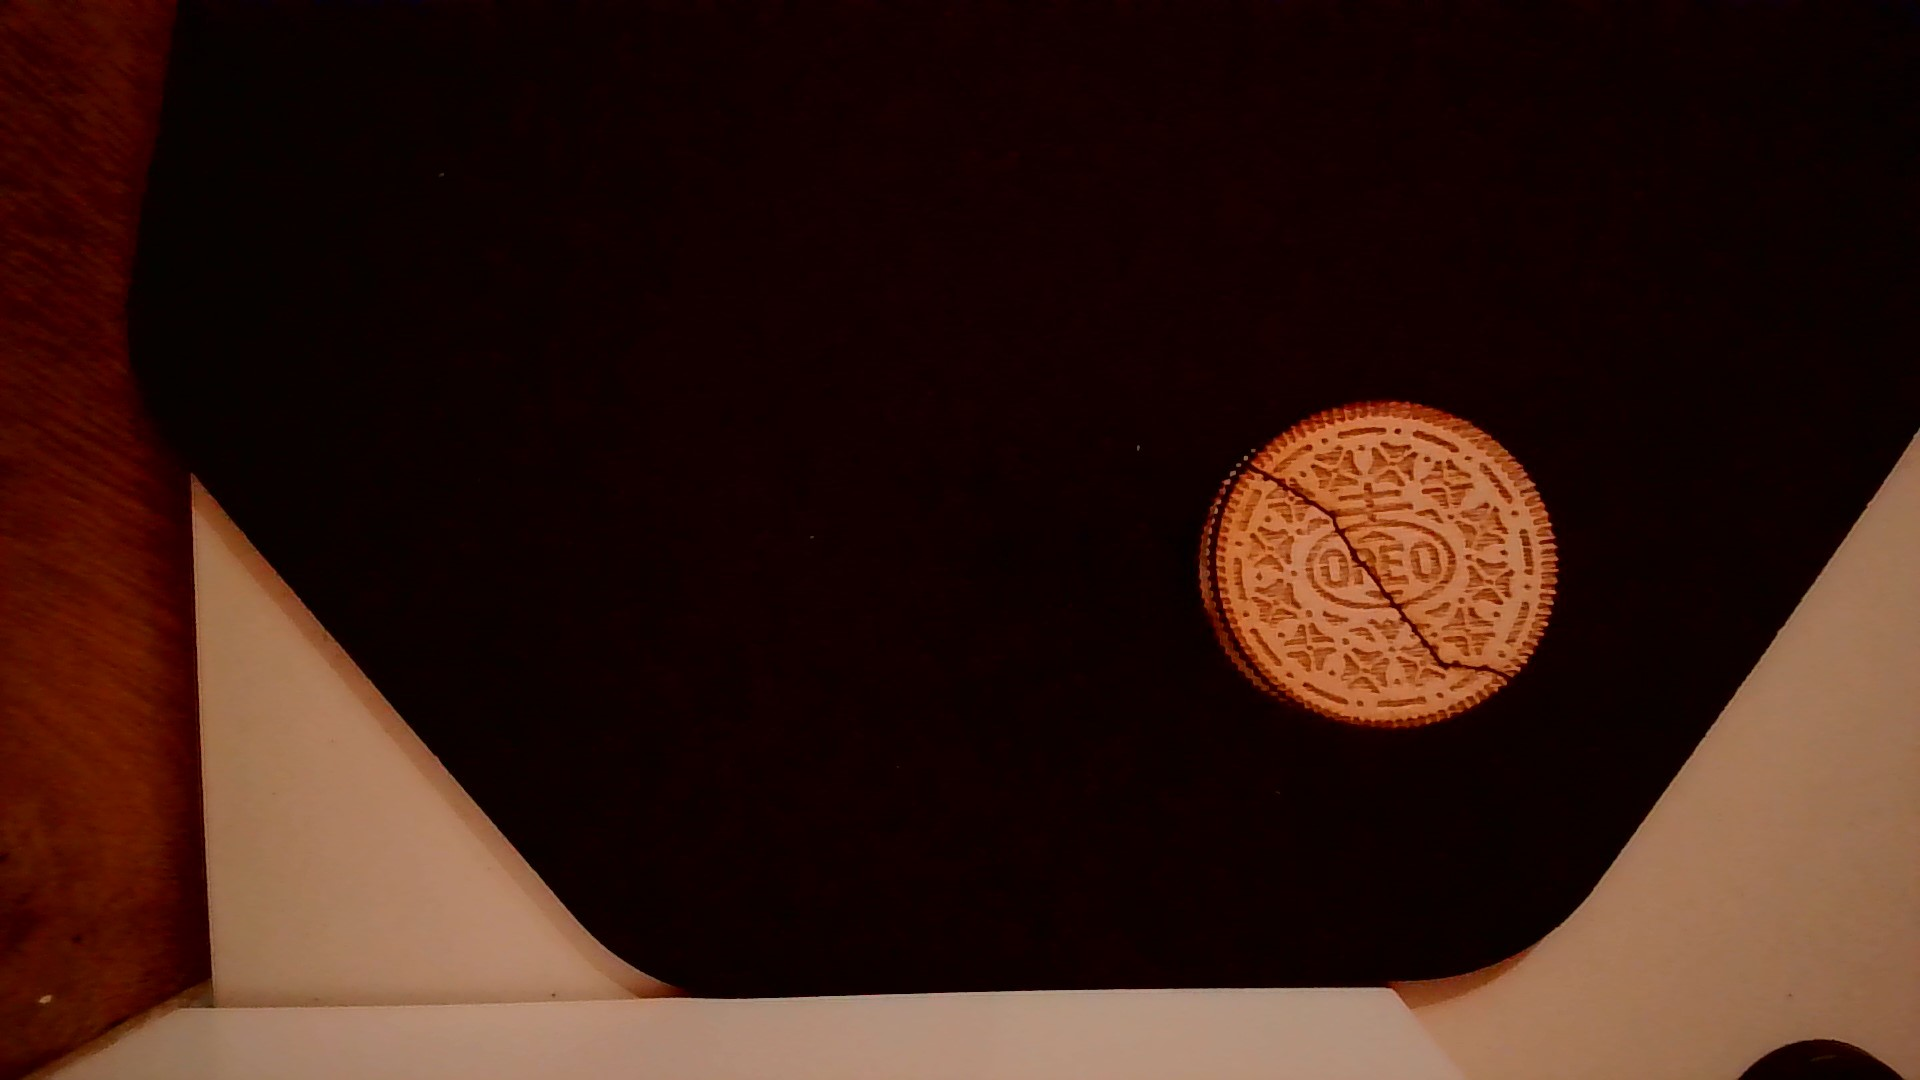Fissure: (1228, 454, 1516, 684)
Oréo: (1187, 392, 1563, 735)
